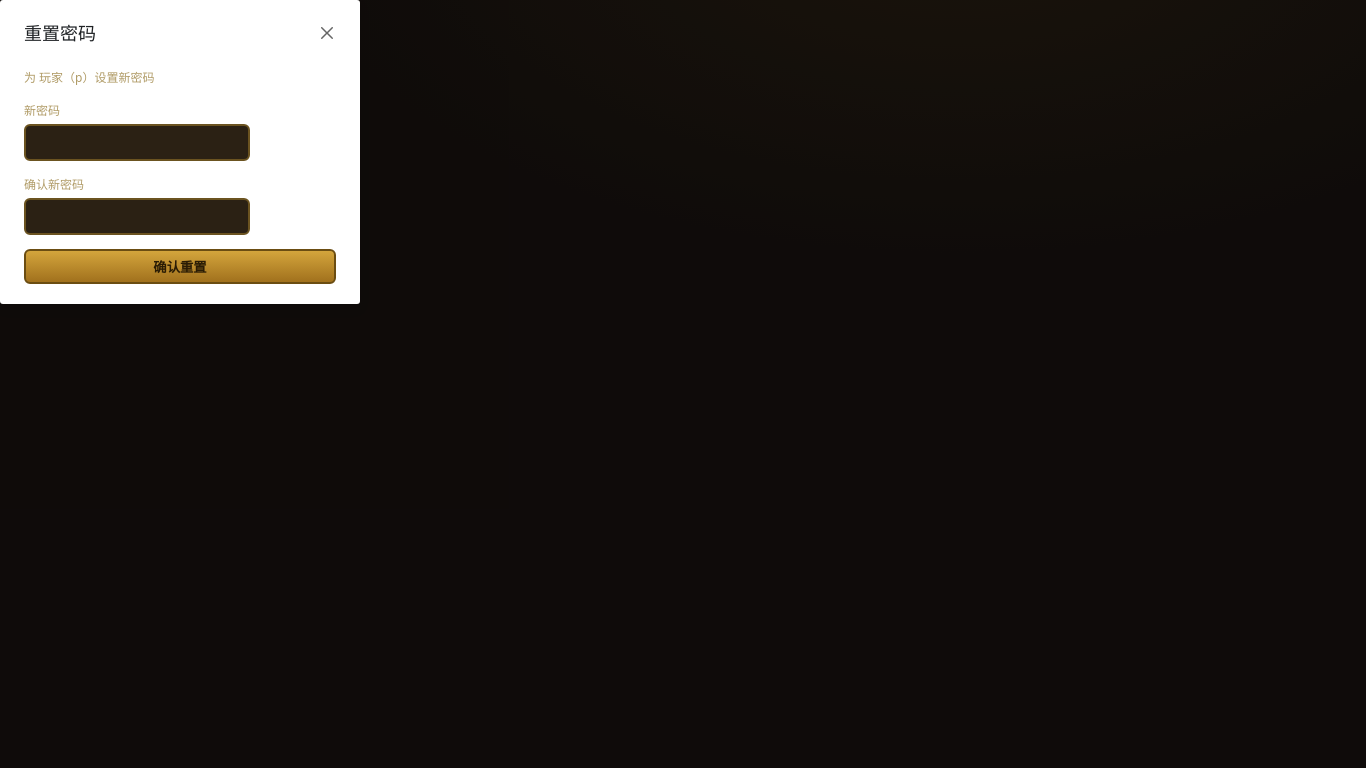
Test: AdminResetPasswordModal › 密码过短不调接口并显示错误
Type "123" into the 1st password field at point(137, 143), box [24, 124, 250, 161]
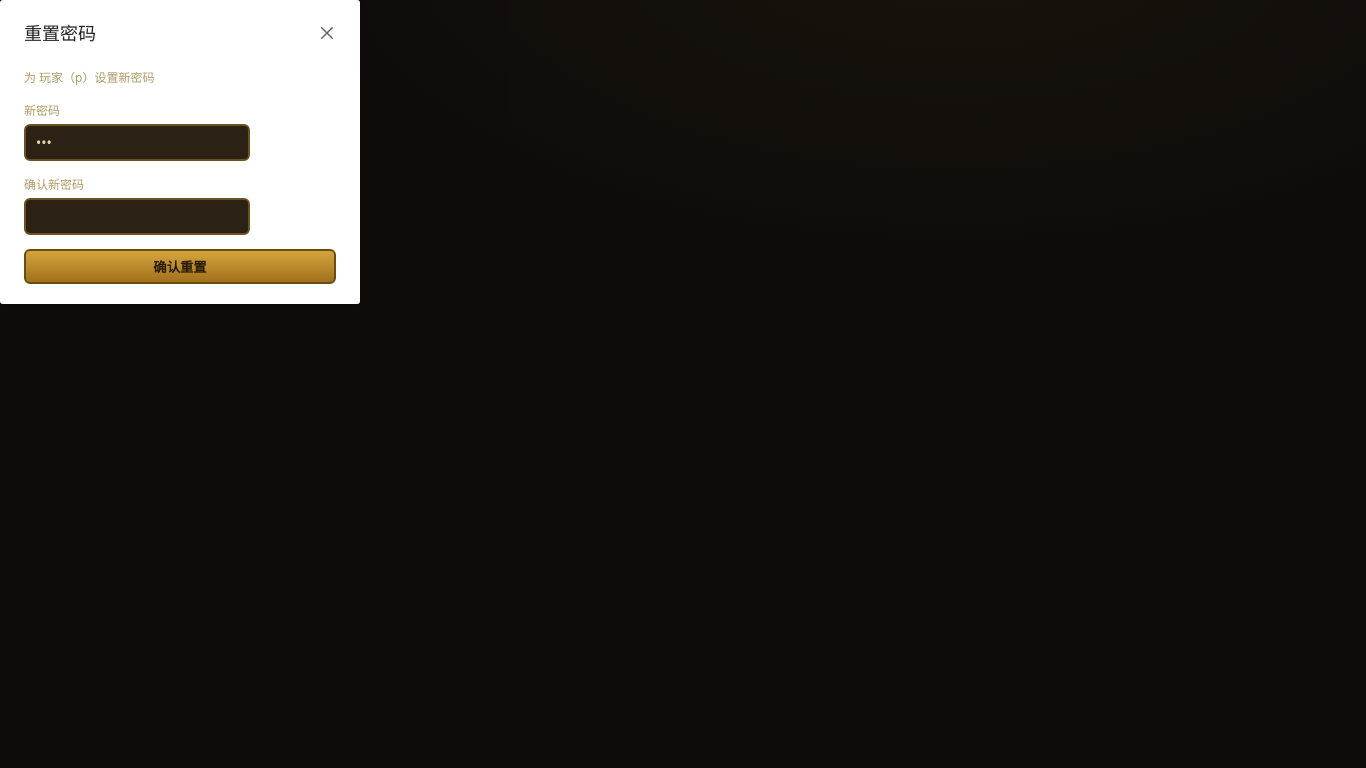
Type "123" into the password field below "确认新密码" at point(137, 217), box [24, 198, 250, 235]
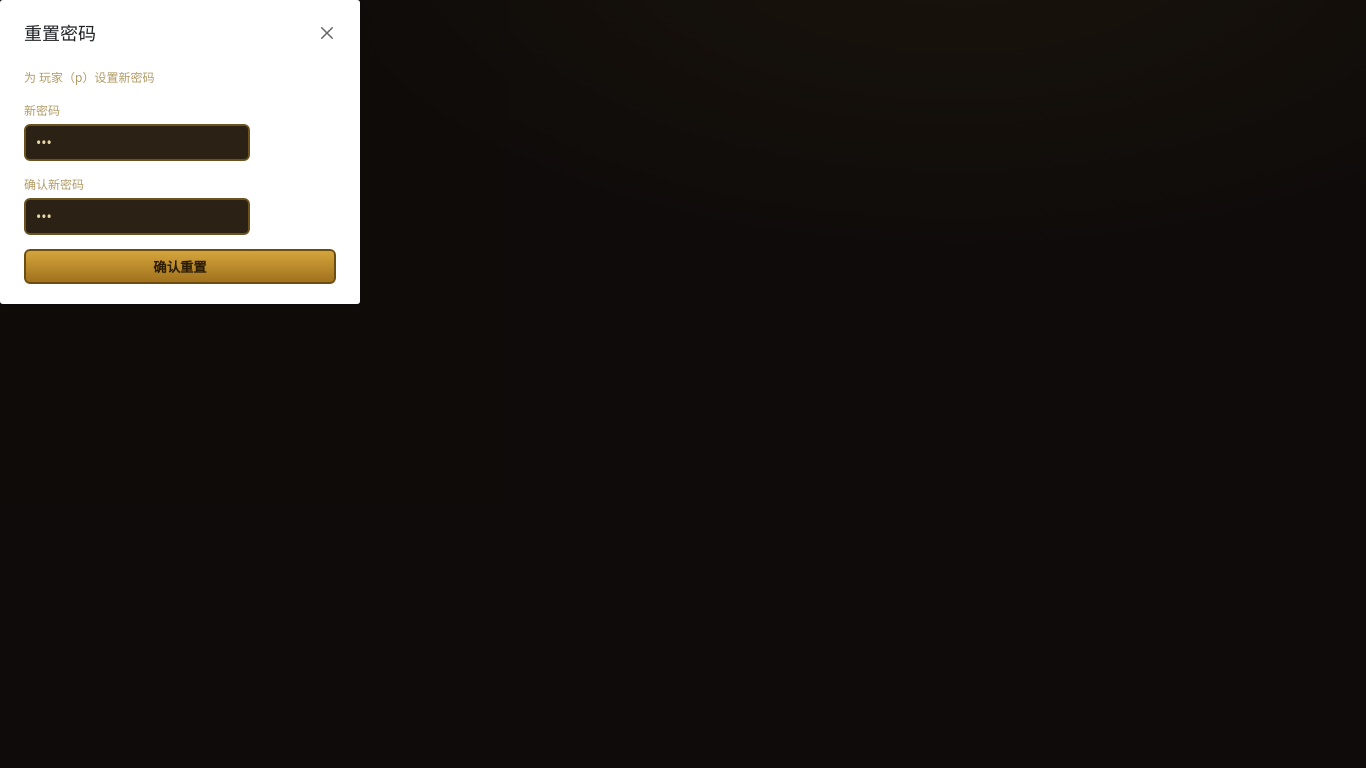
Click the button "确认重置" at point(180, 267), box [24, 249, 336, 284]
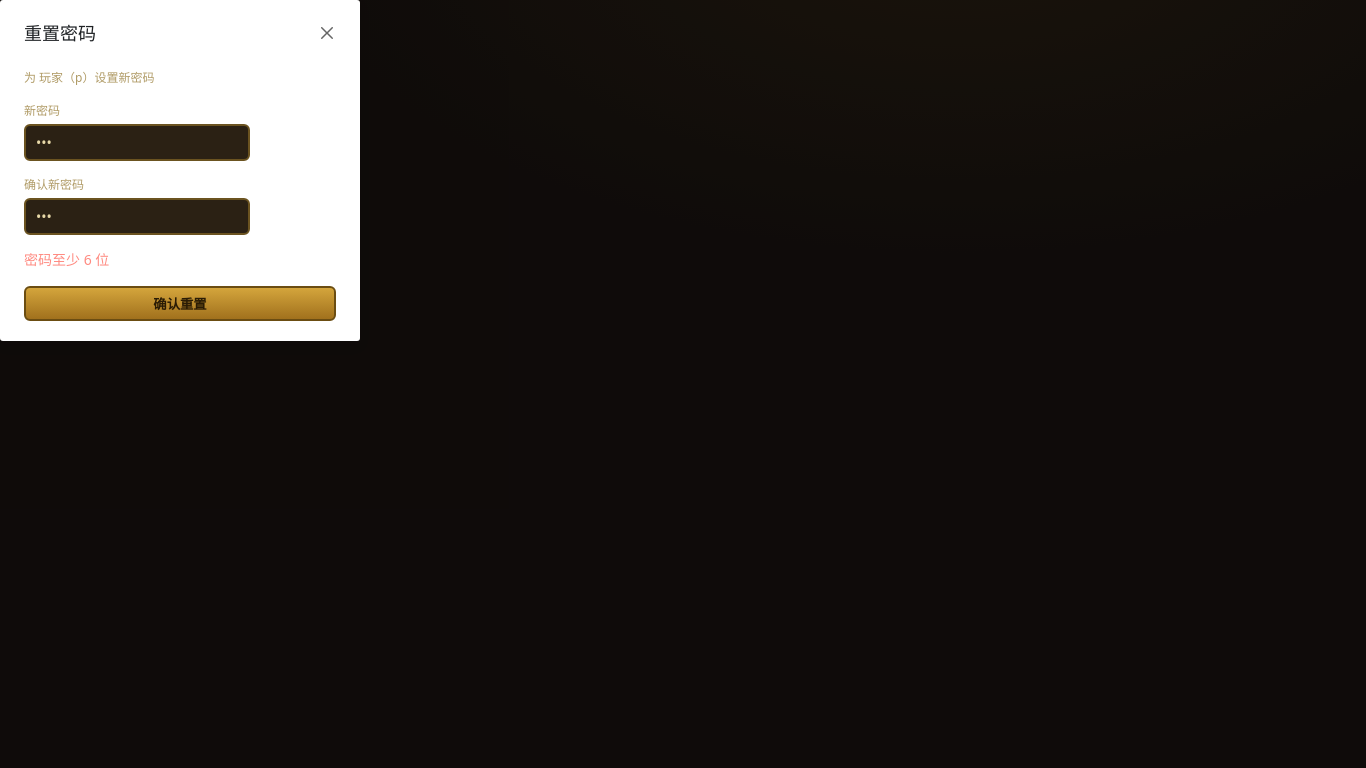
Now the text "密码至少 6 位" is shown, box [24, 250, 109, 269]
